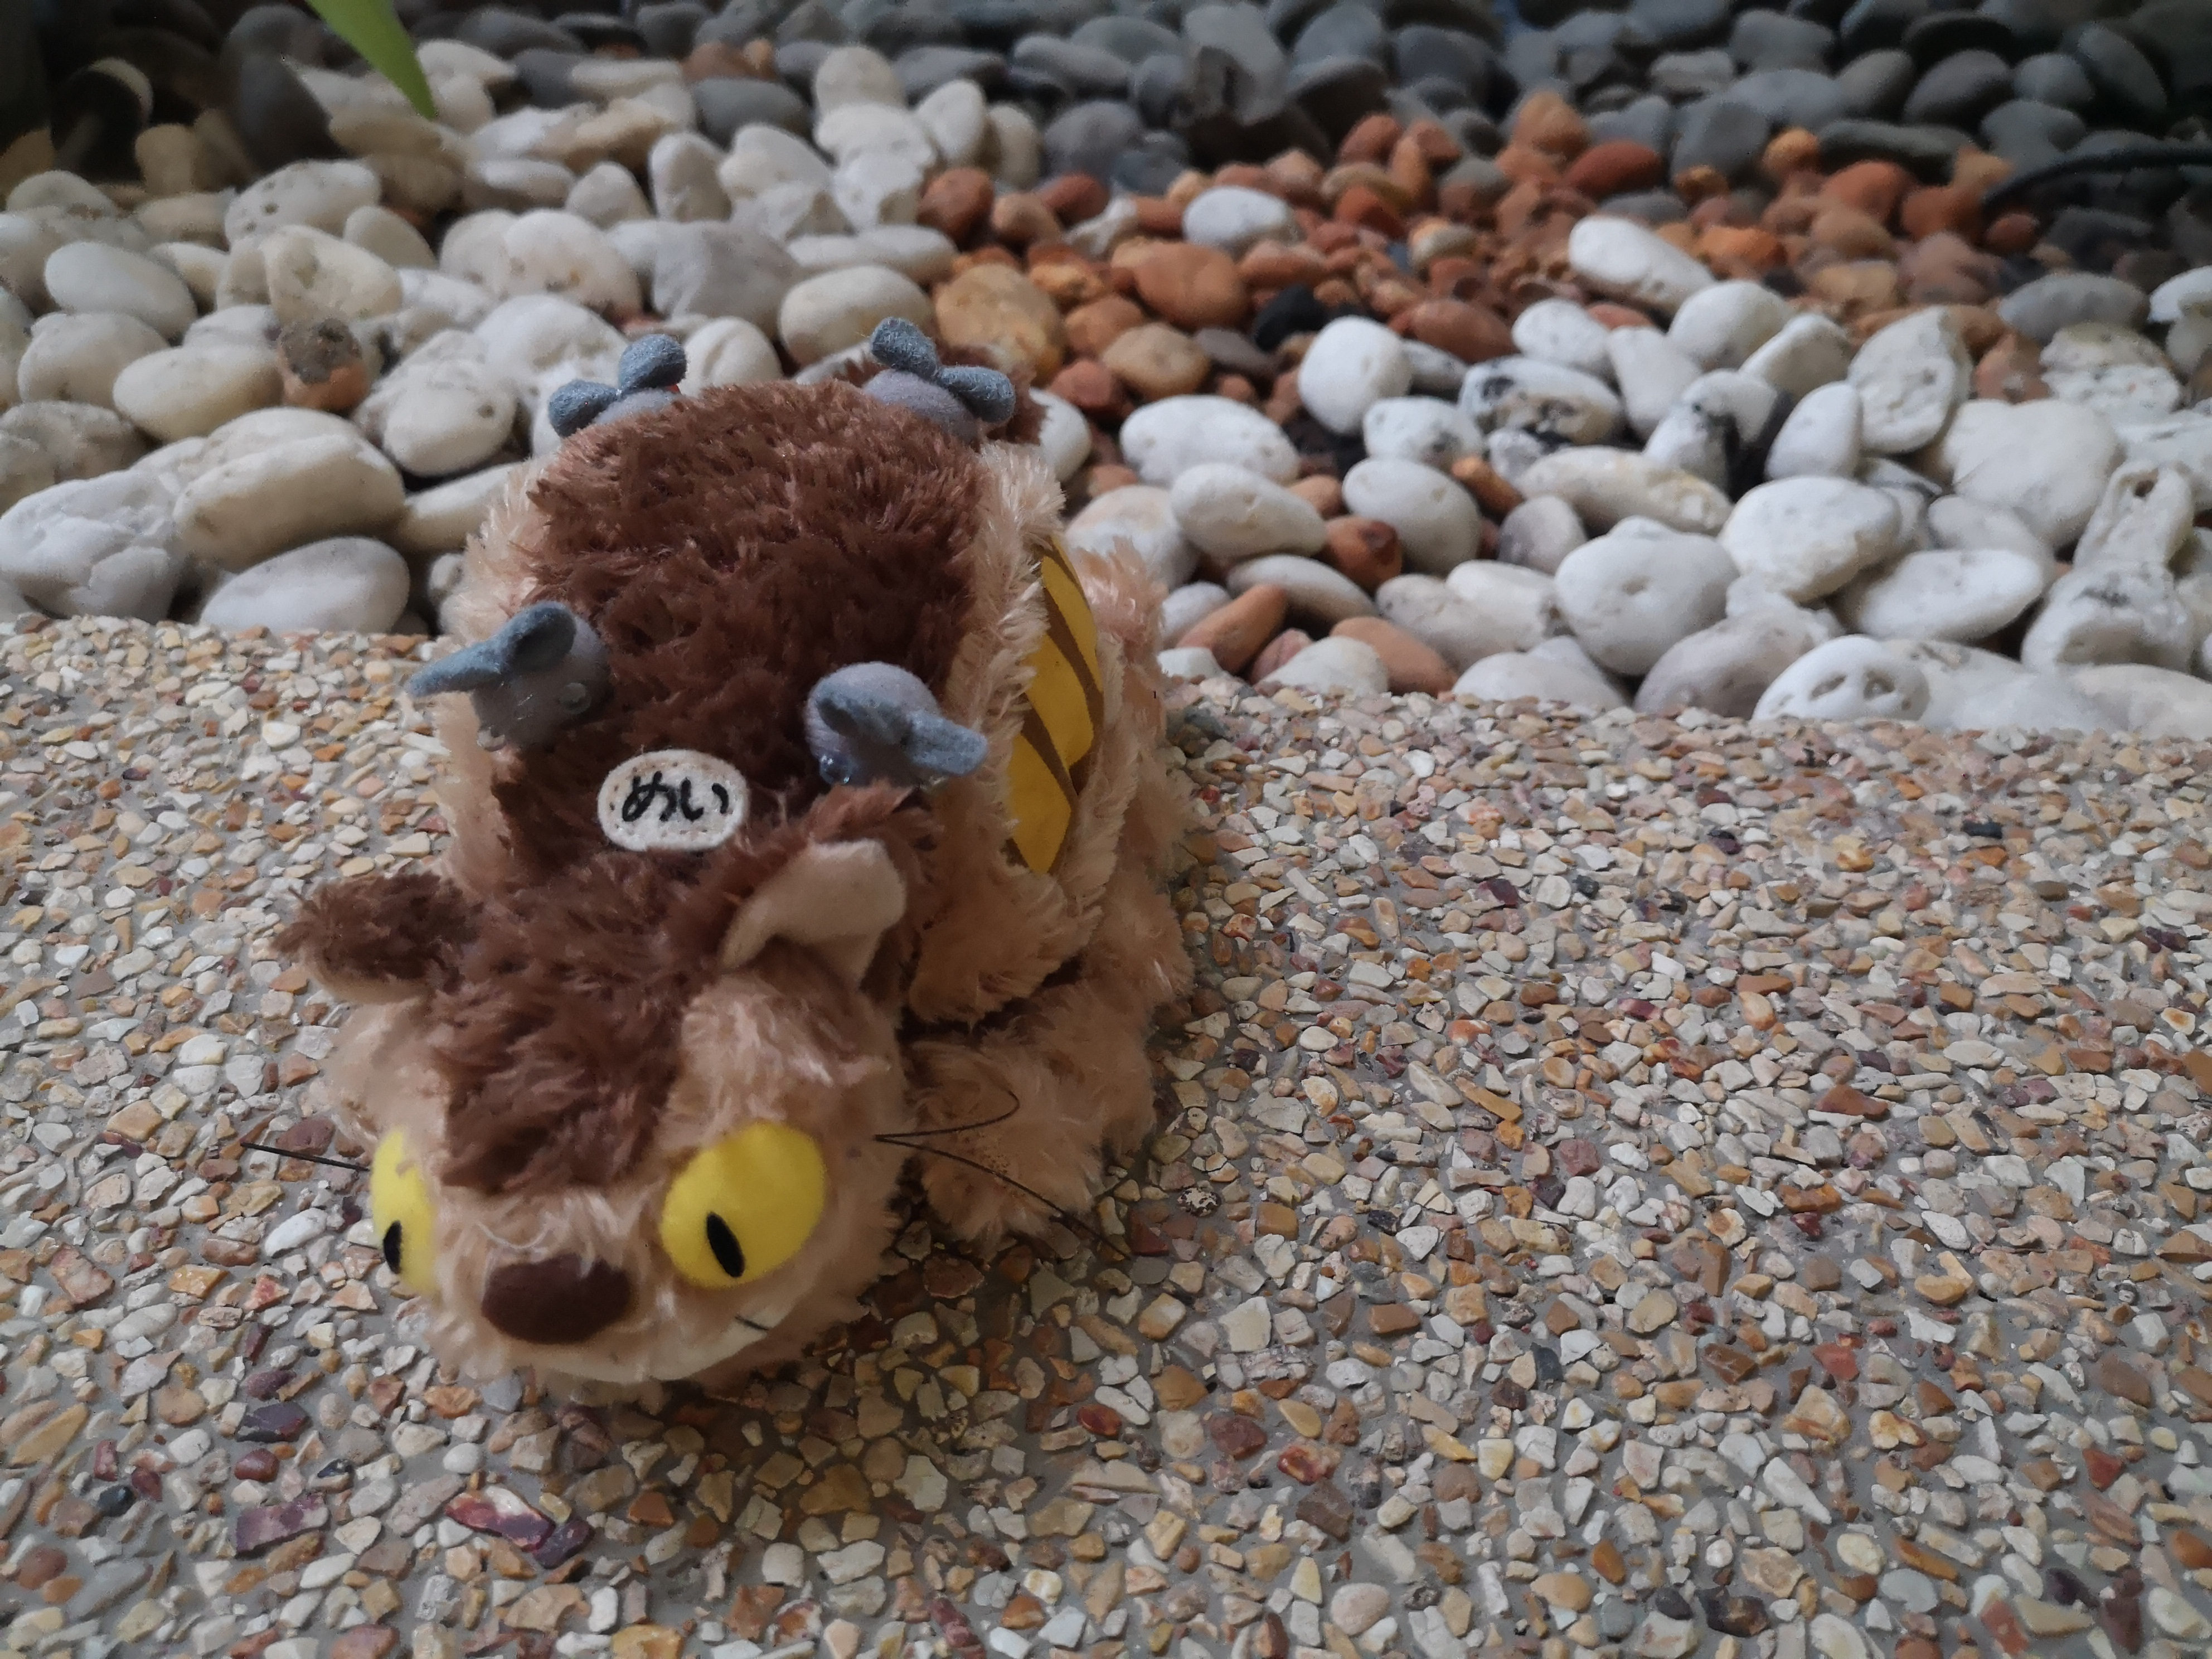nekobus: (265, 321, 1251, 1441)
